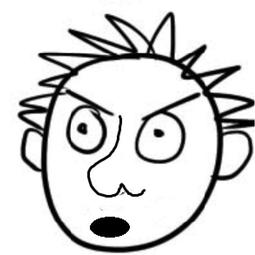ear: (209, 131, 254, 186), (16, 127, 53, 178)
eye: (134, 108, 191, 169), (64, 101, 106, 157)
frowning_eyebrow: (143, 93, 202, 121), (66, 91, 112, 116)
large_nose: (83, 114, 147, 201)
open_mouth: (86, 210, 138, 241)
